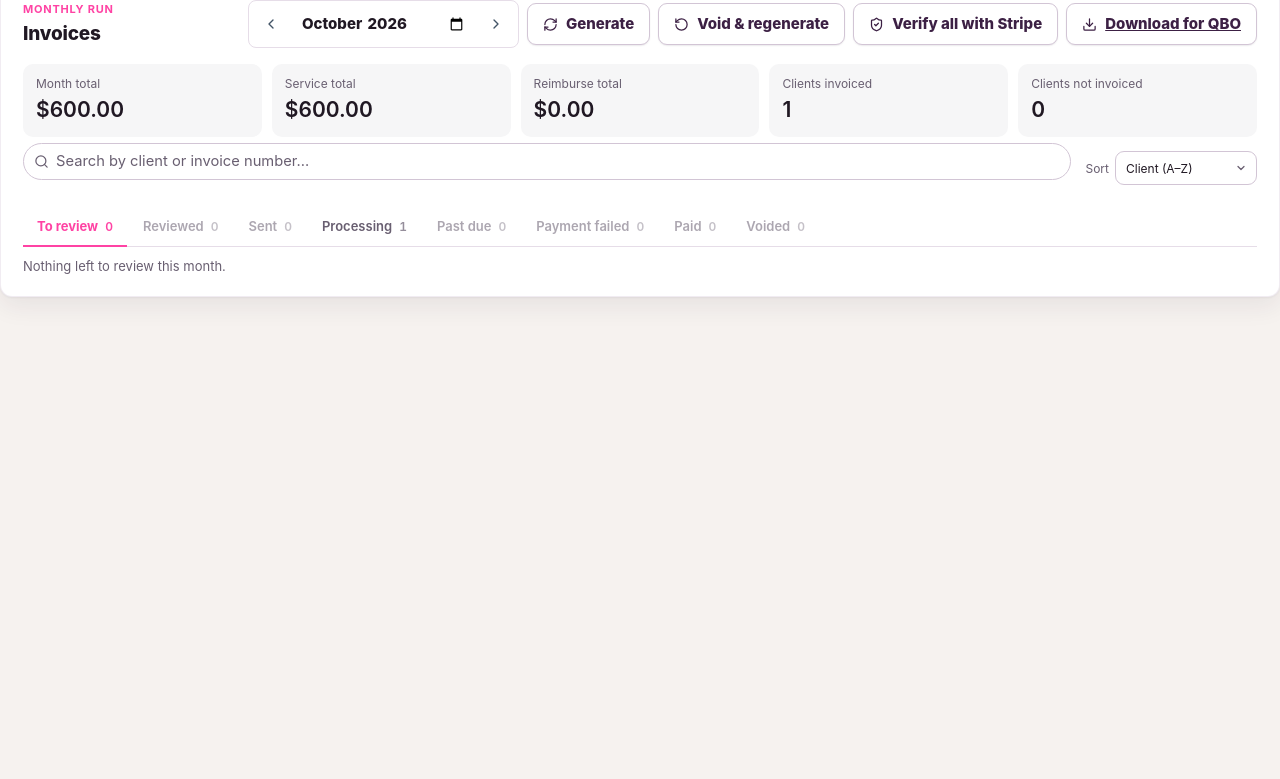
Test: the Send reminder button › is disabled on a processing invoice: "A bank payment is clearing"
Click the tab "Processing 1" at (364, 228), box [308,208,421,247]
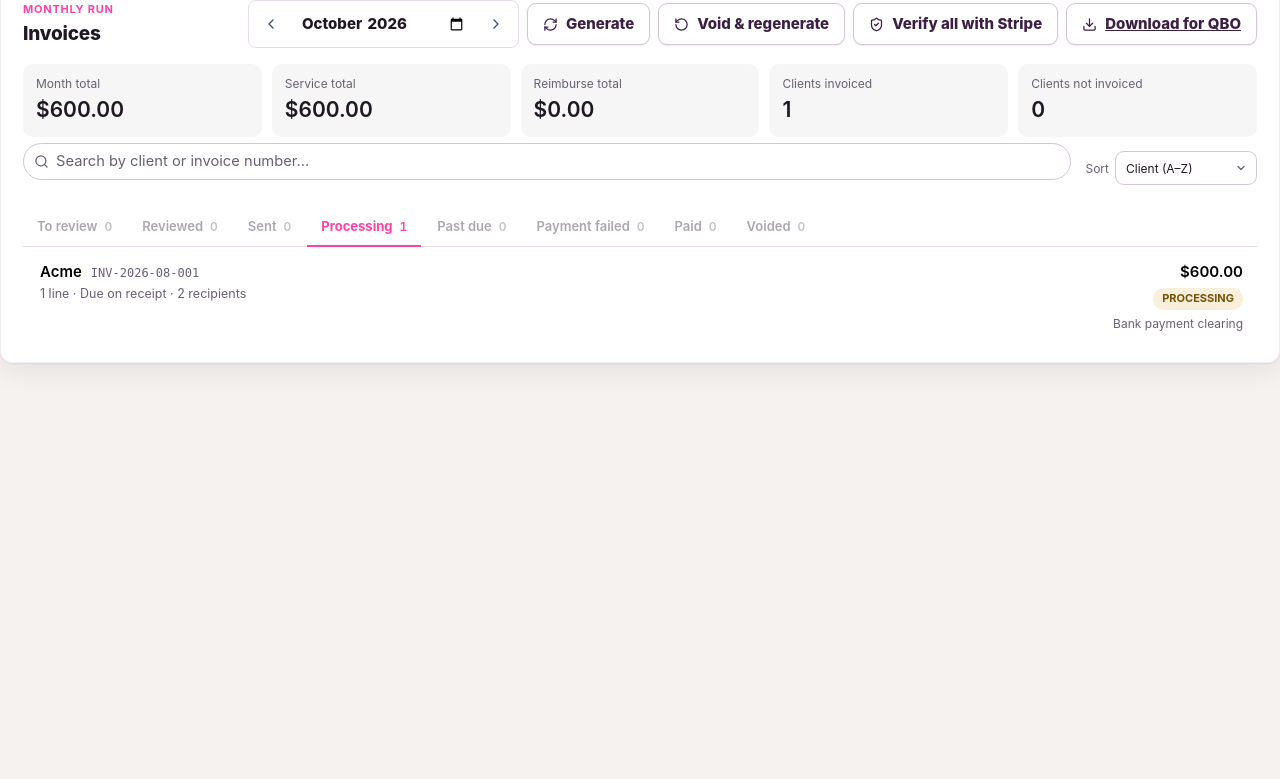
Click the text "INV-2026-08-001" at (145, 274), box [91,265,199,282]
(page scrolled)
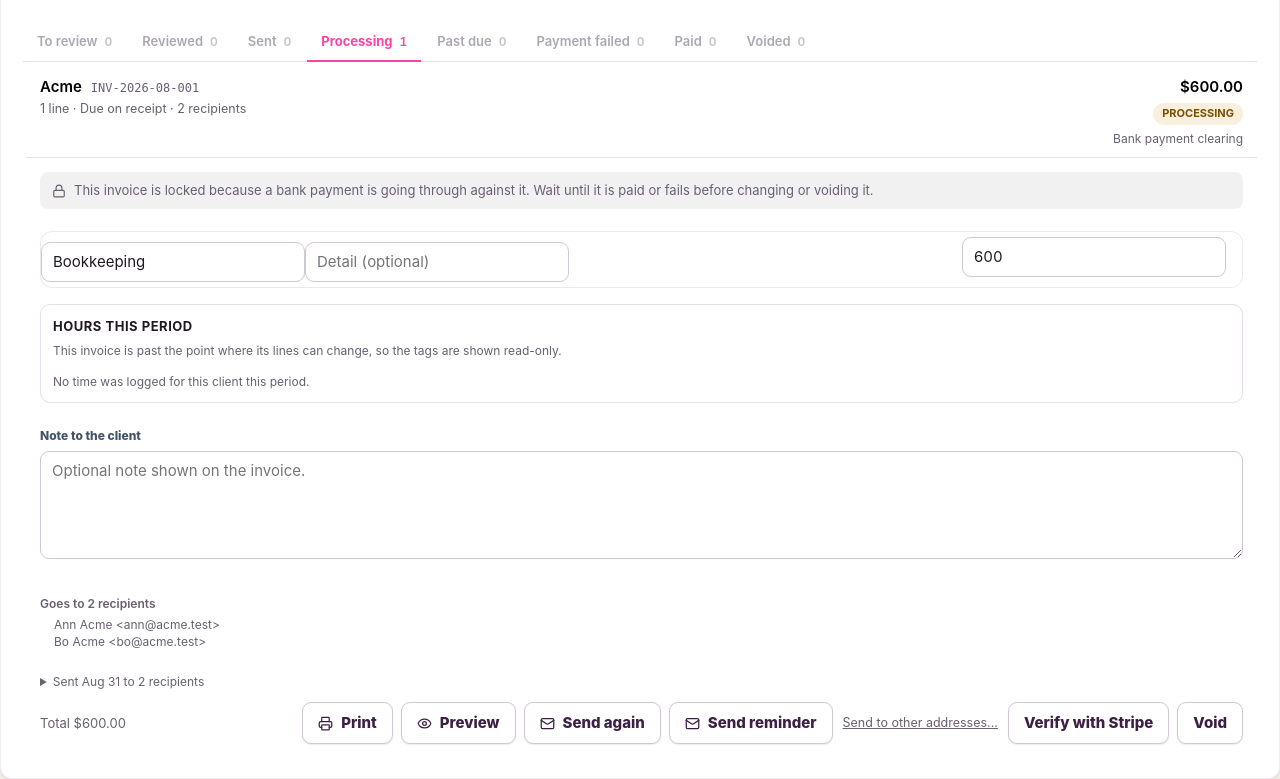
Now the button "Send reminder" is disabled, box [669,702,833,744]
